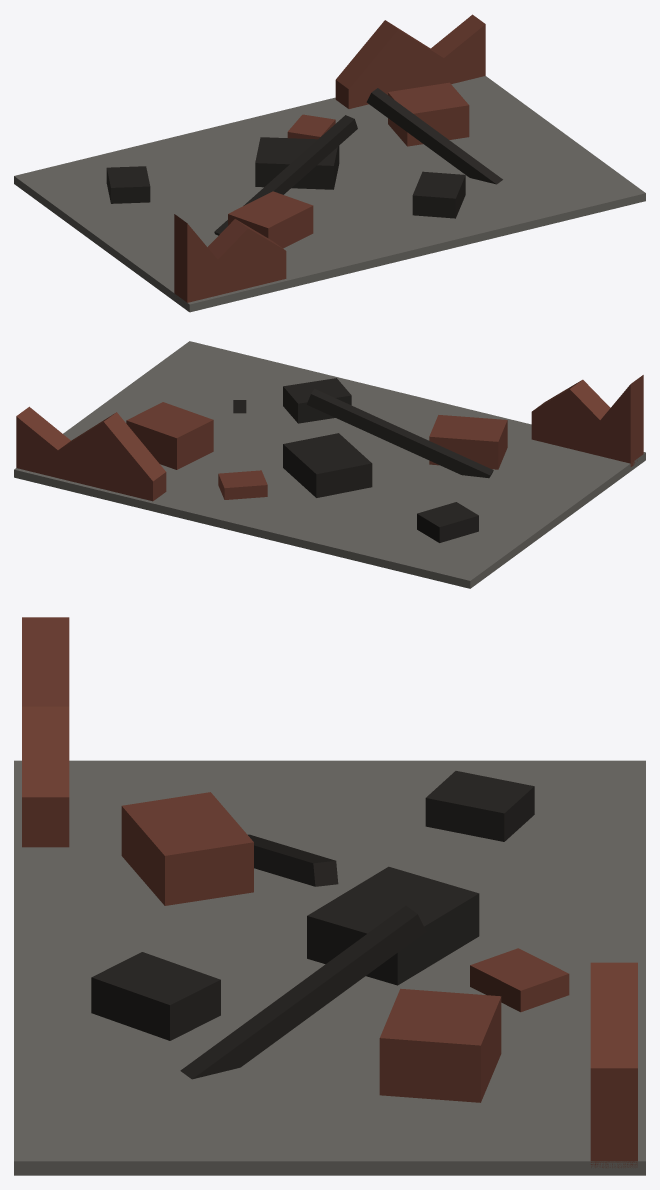
Rendered from ruin.glb.
3 renders of one model, top to bottom at view 1: azimuth 30°, elevation 25°; view 2: azimuth 150°, elevation 25°; view 3: azimuth 270°, elevation 25°, orthographic. The views are drawn at different scales.
Visible parts, largest first — view 1: Ruin; view 2: Ruin; view 3: Ruin.
Boxes of the visible parts, <box> form: Ruin: <box>14,14,645,312</box>; Ruin: <box>14,341,645,588</box>; Ruin: <box>14,617,645,1175</box>.
Size of the model in its own units: 12 by 2.34 by 8.
